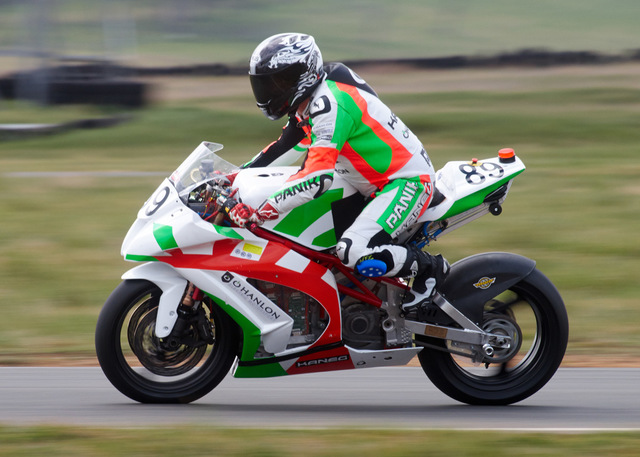helmet: (247, 31, 324, 118)
